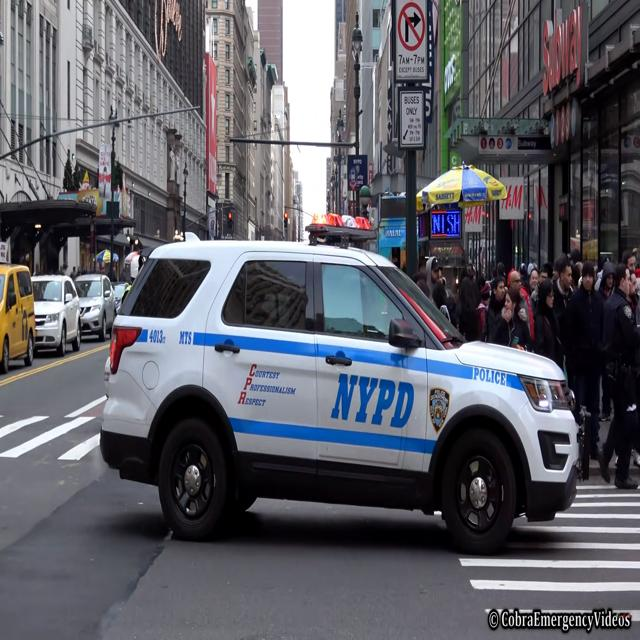emergency-vehicles: (87, 230, 594, 559)
